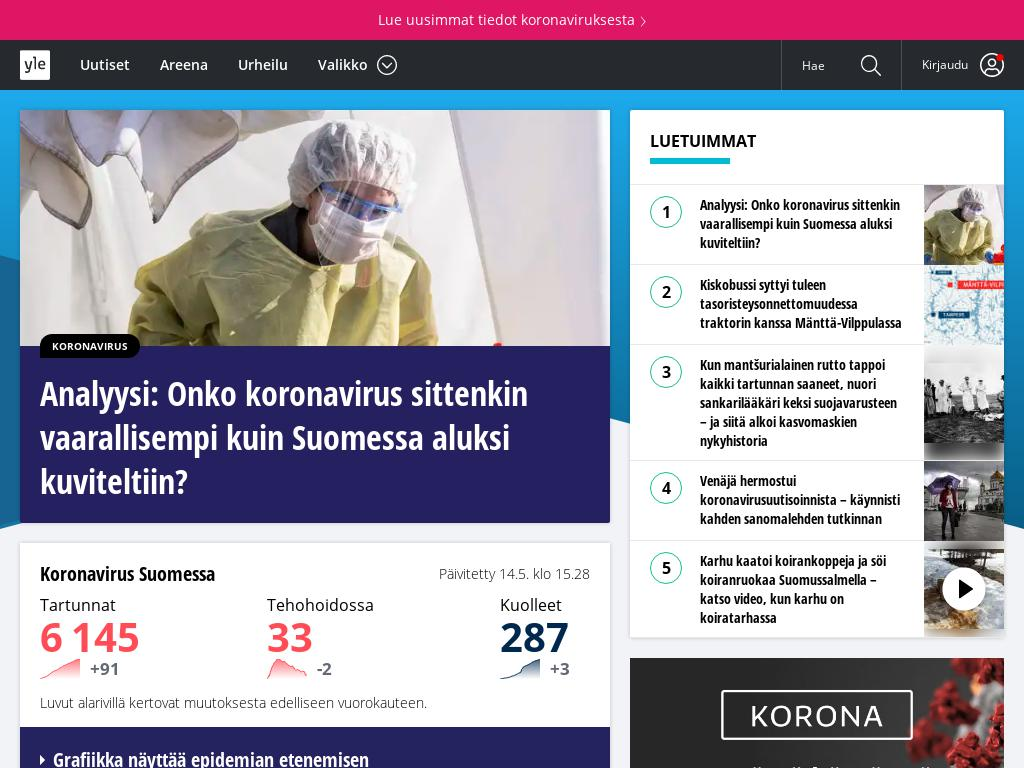button: (20, 110, 611, 524), (0, 0, 1024, 40), (630, 345, 1004, 450), (630, 541, 1004, 627), (630, 185, 1004, 255), (630, 265, 1004, 335), (630, 461, 1004, 531), (902, 40, 1024, 90), (851, 40, 901, 90), (40, 334, 140, 359), (145, 50, 223, 80), (80, 50, 145, 80), (223, 50, 288, 80), (20, 50, 50, 80)
field: (781, 40, 851, 90)
heading: (40, 371, 601, 504), (700, 355, 904, 450), (700, 551, 904, 627), (700, 195, 904, 253), (700, 275, 904, 333), (700, 471, 904, 529), (650, 130, 984, 164), (40, 563, 316, 586), (266, 595, 374, 616), (40, 595, 140, 616), (500, 595, 571, 616)
image: (20, 110, 611, 346), (630, 658, 1004, 768), (924, 345, 1004, 460), (924, 541, 1004, 637), (924, 184, 1004, 265), (924, 264, 1004, 345), (924, 362, 1004, 443), (924, 460, 1004, 541), (924, 549, 1004, 629), (924, 185, 1004, 264), (924, 265, 1004, 344), (924, 461, 1004, 540), (939, 564, 989, 614), (266, 659, 307, 680), (500, 659, 541, 680), (40, 659, 80, 680)
label: (318, 40, 398, 90)
link: (40, 746, 369, 768)
text: (40, 693, 591, 713), (40, 609, 140, 665), (500, 609, 570, 665), (266, 609, 313, 665), (439, 567, 591, 582), (306, 659, 374, 684), (80, 659, 140, 684), (540, 659, 571, 684)
